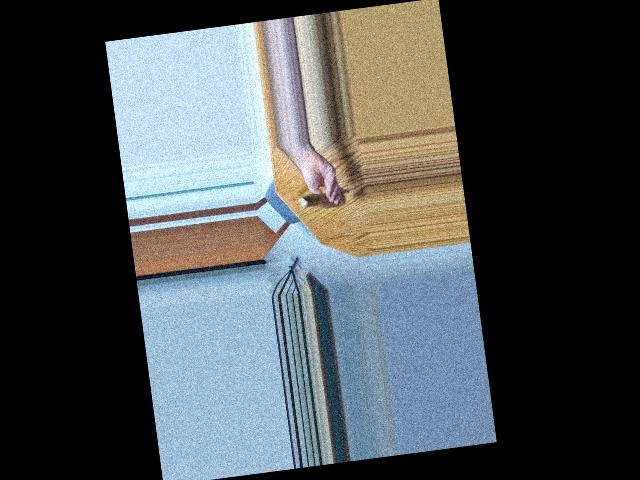sweet_potato: (301, 186, 343, 213)
